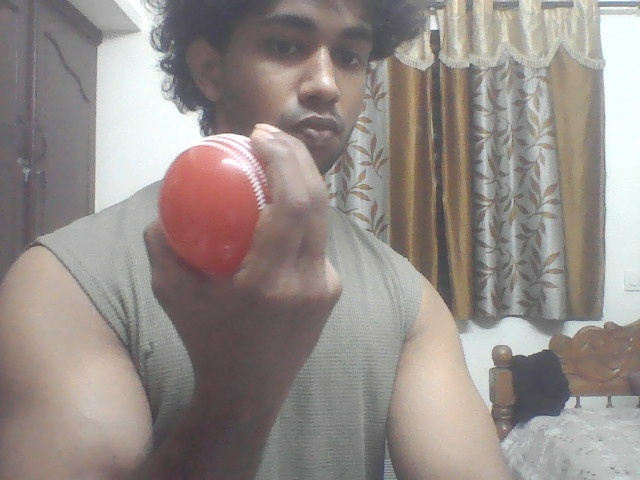cricket_ball: (158, 132, 273, 274)
